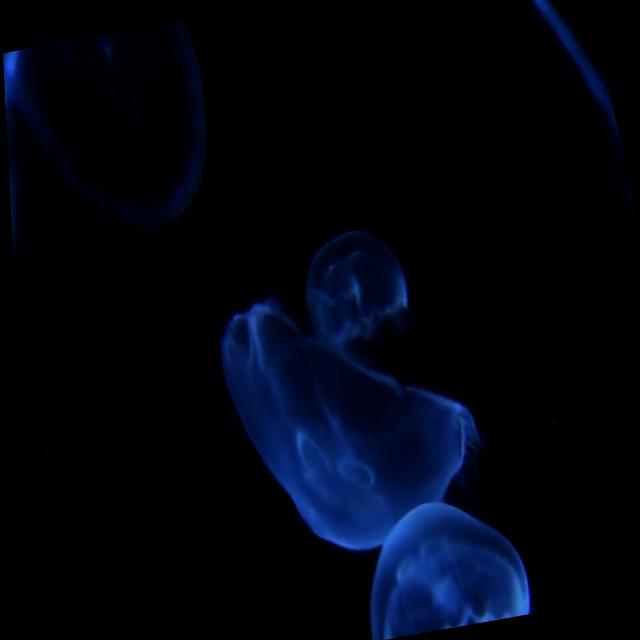Moon-jellyfish: (215, 298, 470, 548), (2, 20, 203, 228), (362, 501, 522, 640), (301, 229, 403, 345)
